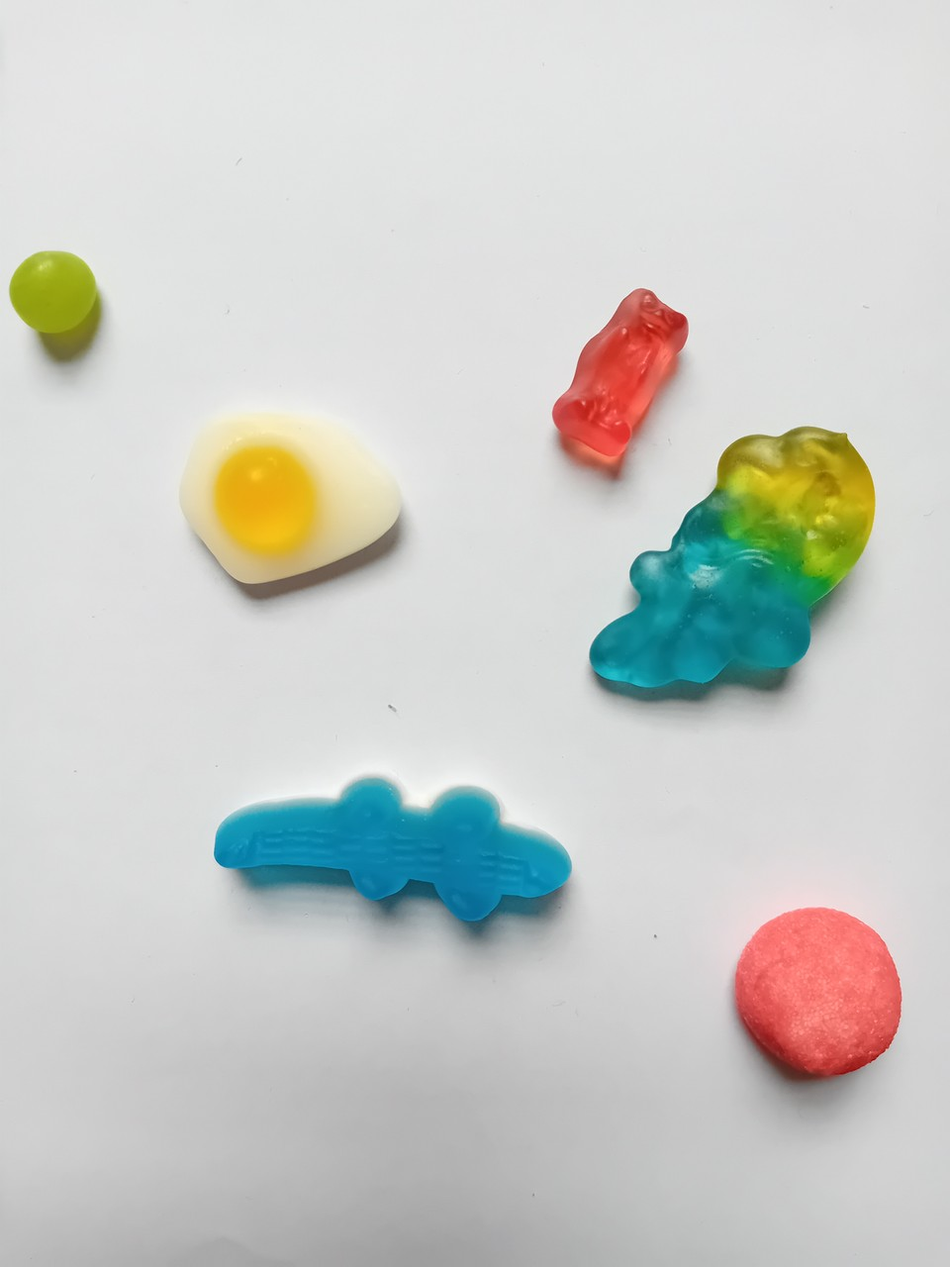crocodile_bleu: (207, 770, 578, 925)
dragibus_vert: (7, 247, 101, 338)
oeuf_oeuf: (169, 407, 412, 590)
ourson_orangeFonce: (543, 281, 696, 466)
schtroumpf_bleu-jaune: (583, 423, 882, 695)
tagada_fraise: (723, 905, 909, 1085)
